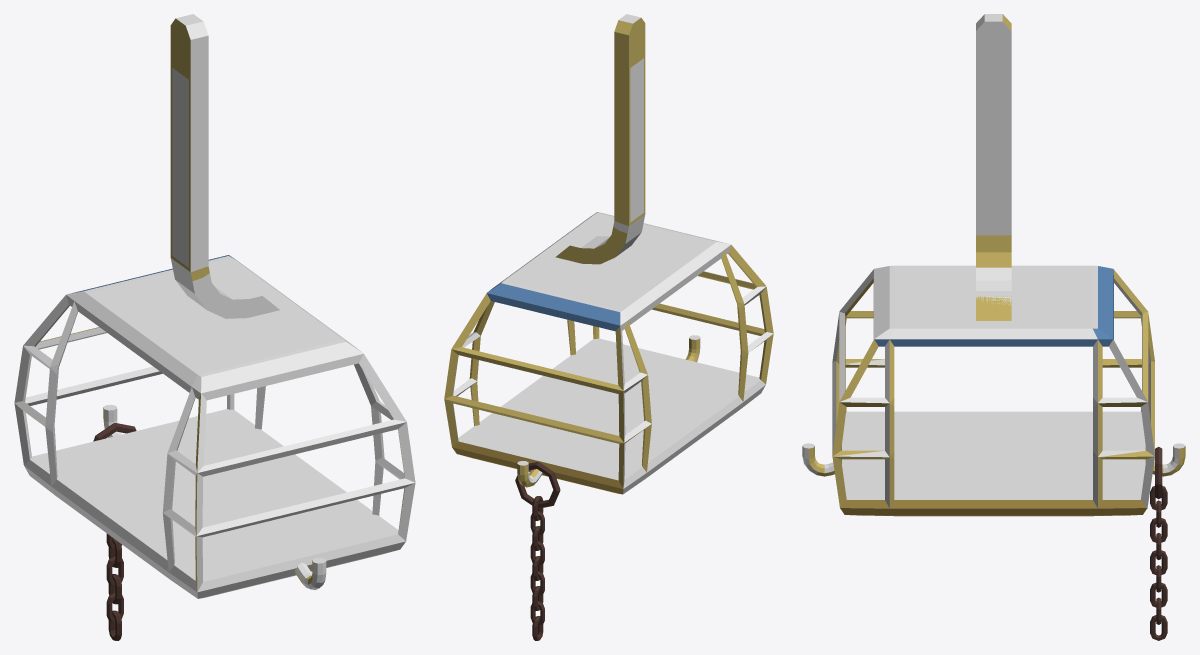
Rendered from CableCar.fbx.
The picture shows the model from 3 angles, left to right: view 1: azimuth 30°, elevation 25°; view 2: azimuth 150°, elevation 25°; view 3: azimuth 270°, elevation 25°; orthographic projection. The views are drawn at different scales.
Visible parts, largest first — view 1: CableCar.001, CableCar.002, CableCar, CableCarMesh, CableCar.020, CableCar.038, CableCar.026, CableCar.012, CableCar.004, CableCar.005, CableCar.008, CableCar.032 (+3 smaller); view 2: CableCar.001, CableCarMesh, CableCar.002, CableCar, ChainC_Ring2.001; view 3: CableCar.001, CableCarMesh, CableCar.002, CableCar, CableCar.010.
Boxes of the visible parts, left/top/right/bottom form: CableCar.001: left=24, top=409, right=405, bottom=598; CableCar.002: left=66, top=256, right=363, bottom=400; CableCar: left=172, top=14, right=208, bottom=271; CableCarMesh: left=21, top=18, right=404, bottom=590; CableCar.020: left=197, top=419, right=406, bottom=476; CableCar.038: left=197, top=478, right=414, bottom=537; CableCar.026: left=25, top=366, right=162, bottom=405; CableCar.012: left=359, top=354, right=406, bottom=421; CableCar.004: left=230, top=281, right=279, bottom=317; CableCar.005: left=214, top=284, right=249, bottom=318; CableCar.008: left=23, top=295, right=69, bottom=346; CableCar.032: left=45, top=364, right=58, bottom=431; CableCar.001: left=458, top=338, right=765, bottom=494; CableCarMesh: left=444, top=17, right=773, bottom=494; CableCar.002: left=495, top=212, right=731, bottom=330; CableCar: left=619, top=14, right=643, bottom=222; ChainC_Ring2.001: left=515, top=462, right=560, bottom=508; CableCar.001: left=841, top=411, right=1145, bottom=499; CableCarMesh: left=808, top=14, right=1185, bottom=516; CableCar.002: left=873, top=265, right=1097, bottom=339; CableCar: left=976, top=14, right=1011, bottom=235; CableCar.010: left=1109, top=339, right=1147, bottom=401.
Size of the model in its own units: 3.81 by 11.39 by 6.43.
